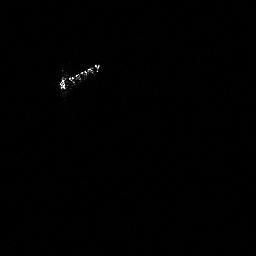ship: (60, 62, 100, 90)
